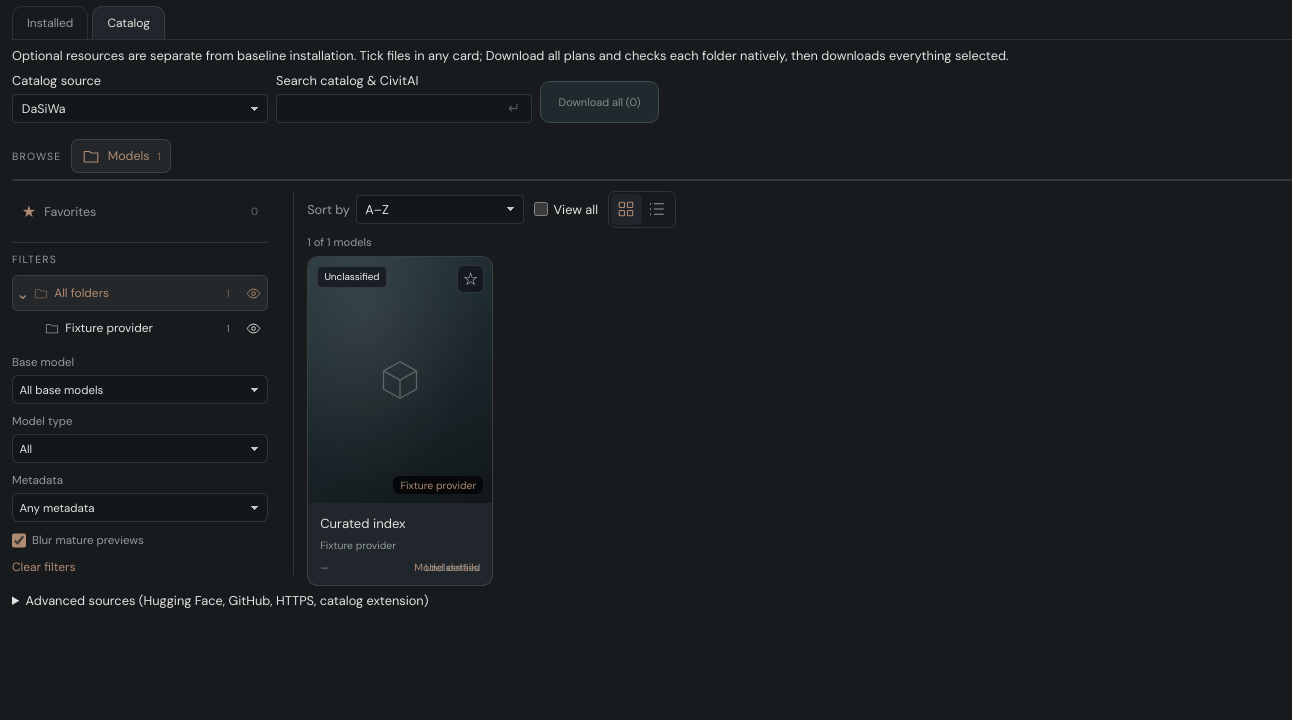
Test: keeps a directly downloadable discovery file bound to its provider and access mode
Later steps or results of the test are not shown.
Type "file" into the field labelled "Search catalog & CivitAI" at (404, 109), box [276,94,532,123]
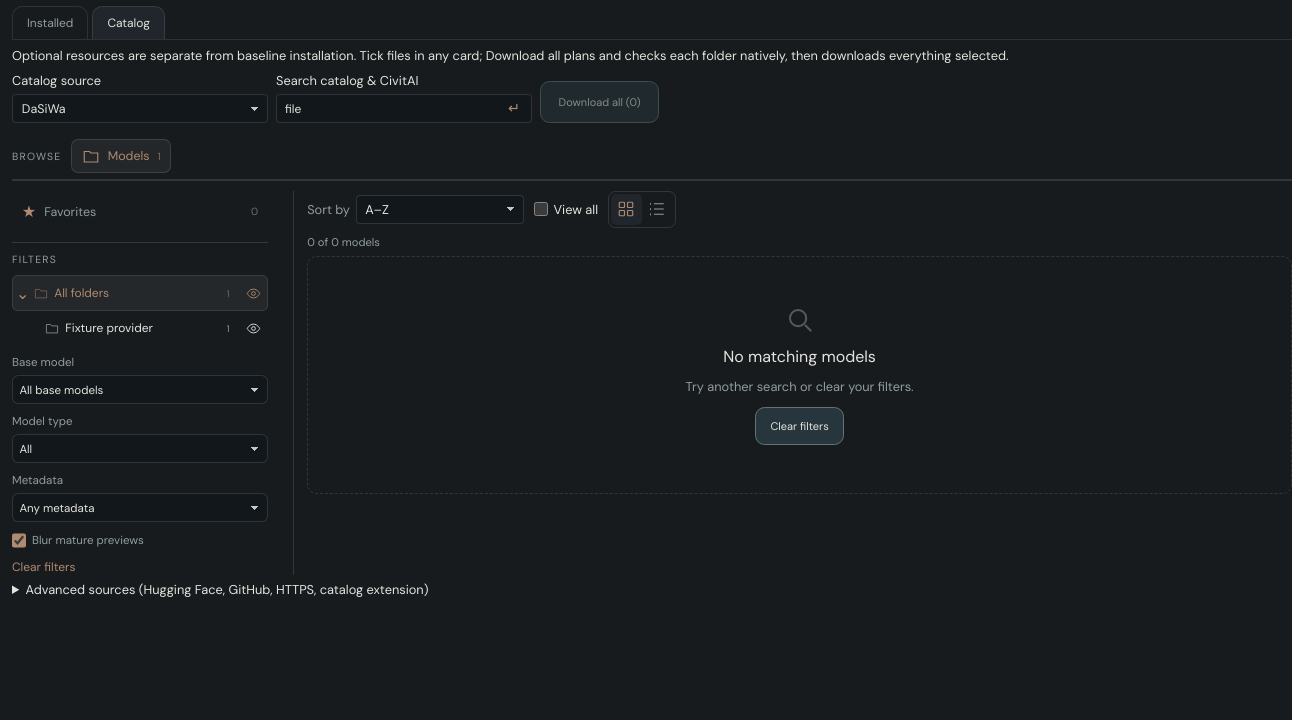
Click the button named "Search" at (514, 109), box [498,96,530,121]
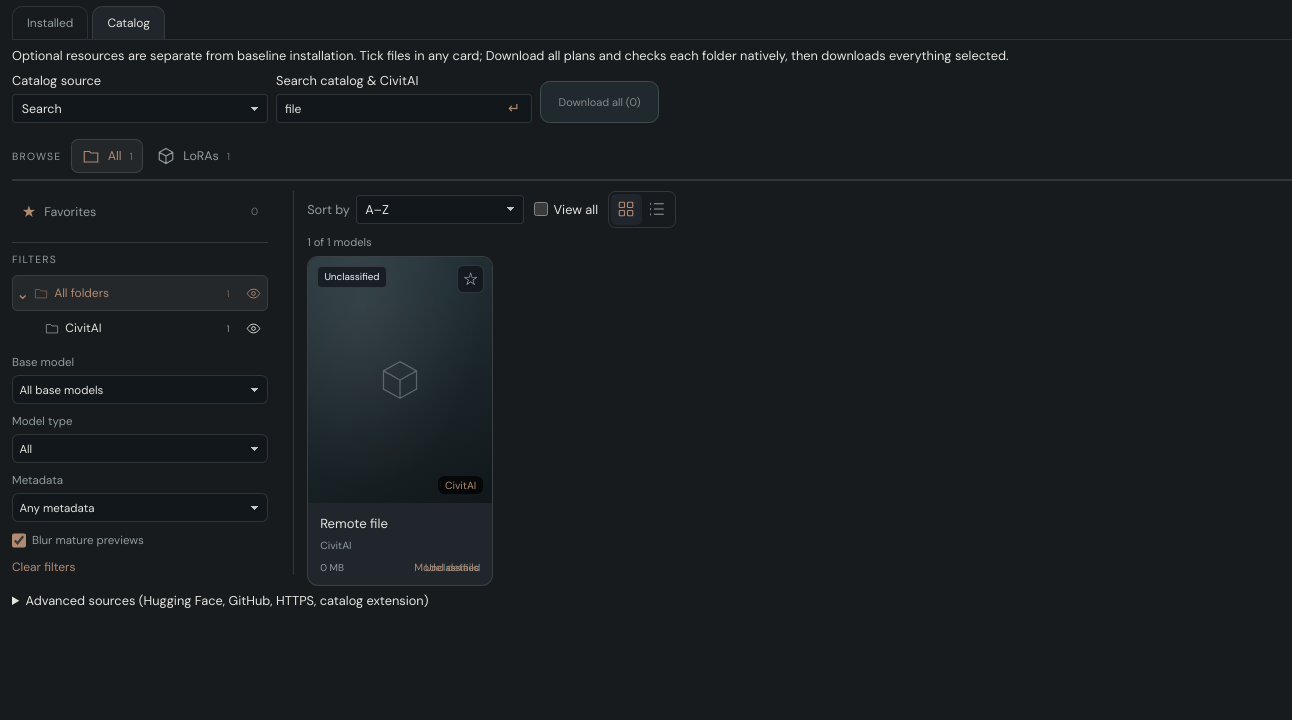
expect the button "Remote file" is shown: met, box [308,257,492,585]
